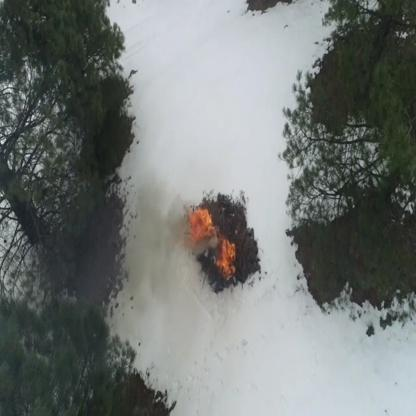Fire: (190, 207, 212, 245), (218, 236, 234, 281), (211, 224, 219, 237)
